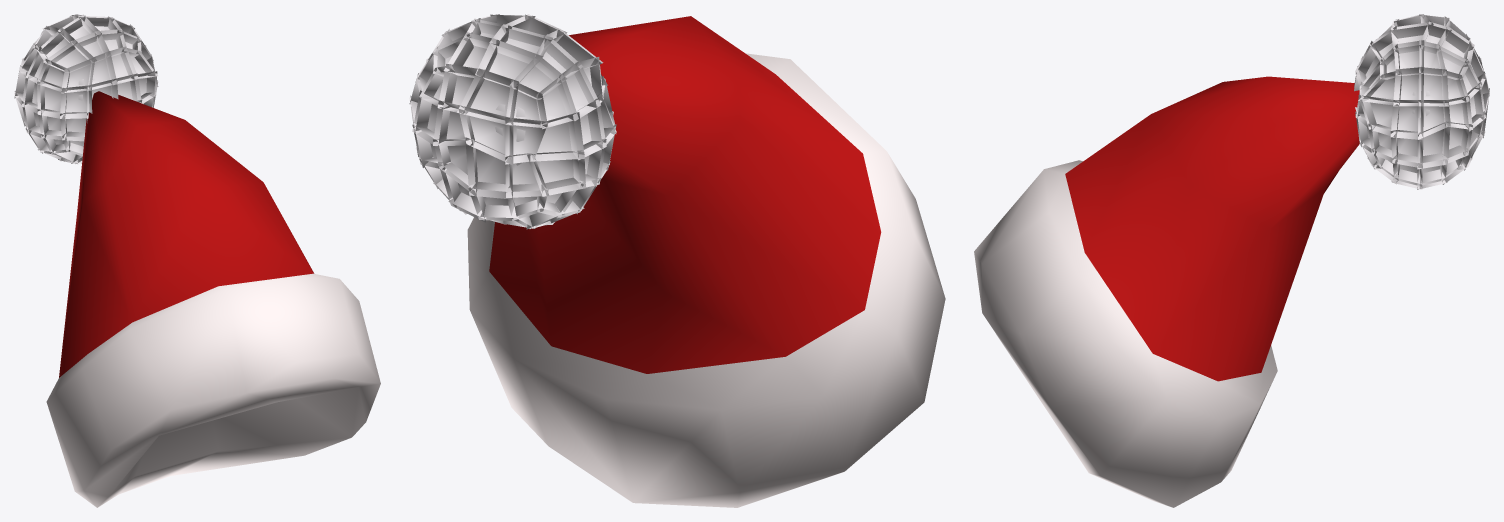
File: santa.fbx
3 views of the same model, side by side, from view 1: azimuth 30°, elevation 25°; view 2: azimuth 150°, elevation 25°; view 3: azimuth 270°, elevation 25° (orthographic). The views are drawn at different scales.
Parts seen in each view (by area): view 1: winterhat; view 2: winterhat; view 3: winterhat.
Part boxes in pixels (<box>): winterhat: <box>14,14,380,507</box>; winterhat: <box>409,14,945,507</box>; winterhat: <box>974,14,1489,507</box>.
Bounding box in the file's own units: 250 × 318 × 333.
